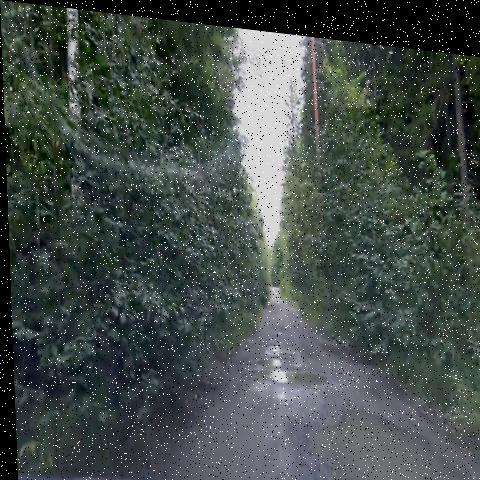pothole: (295, 381, 480, 480), (242, 352, 330, 388), (250, 330, 292, 365), (314, 325, 354, 361), (267, 309, 292, 334)
